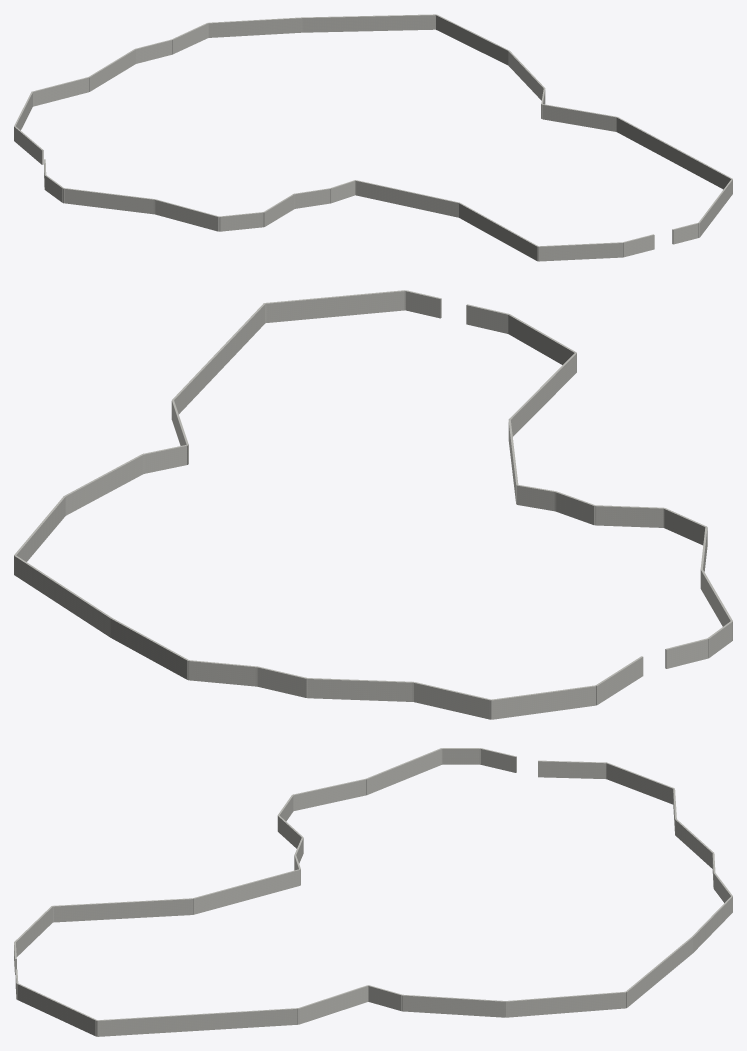
Rendered from OuterWall.fbx.
3 views of the same model, one above another, from view 1: azimuth 30°, elevation 25°; view 2: azimuth 150°, elevation 25°; view 3: azimuth 270°, elevation 25° (orthographic). The views are drawn at different scales.
Parts seen in each view (by area): view 1: Cube; view 2: Cube; view 3: Cube.
Boxes of the visible parts, <box> form: Cube: <box>14,14,732,261</box>; Cube: <box>14,290,732,719</box>; Cube: <box>14,748,732,1036</box>.
Bounding box in the file's own units: 34868 × 950 × 38822.
